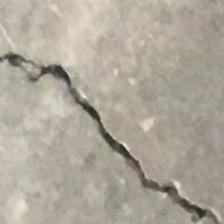Crack: (5, 46, 219, 223)
